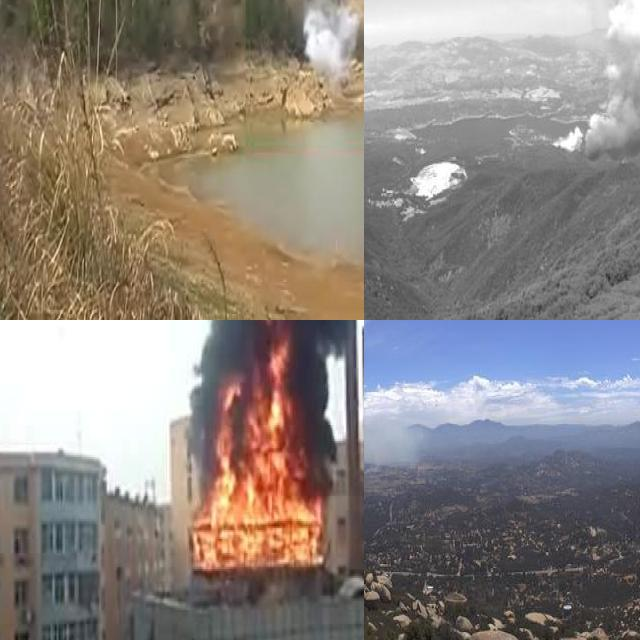fire: (187, 320, 331, 572)
smoke: (152, 320, 364, 438), (546, 0, 640, 157), (302, 0, 358, 92), (364, 397, 416, 478)
